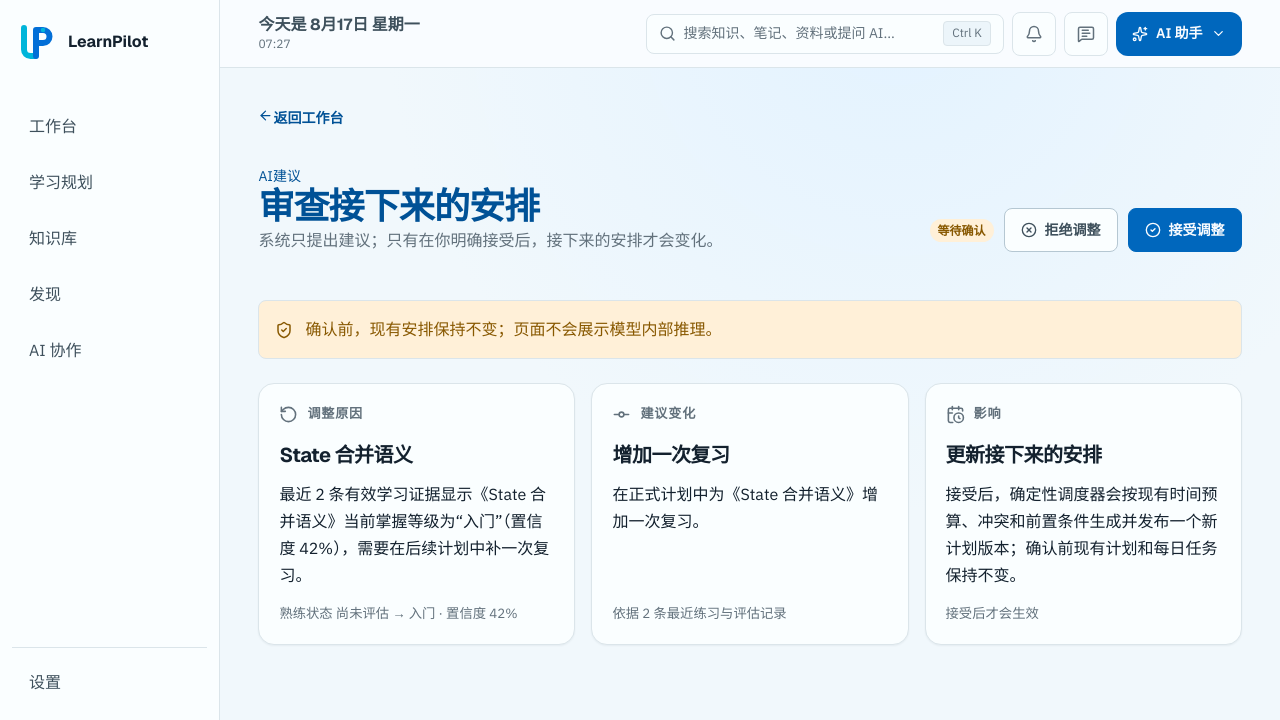
V11F Adaptive Plan Proposal › 只展示用户可审查的原因、建议和影响，并在明确接受后显示新安排
Expected: the heading "审查接下来的安排" is shown, [258,183,539,230]
Expected: the text "最近 2 条有效学习证据显示《State 合并语义》当前掌握等级为“入门”（置信度 42%），需要在后续计划中补一次复习。" is shown, [279,481,554,589]
Click the button "接受调整". click: x=1185, y=230
box: [1128,208,1242,252]
(page scrolled)
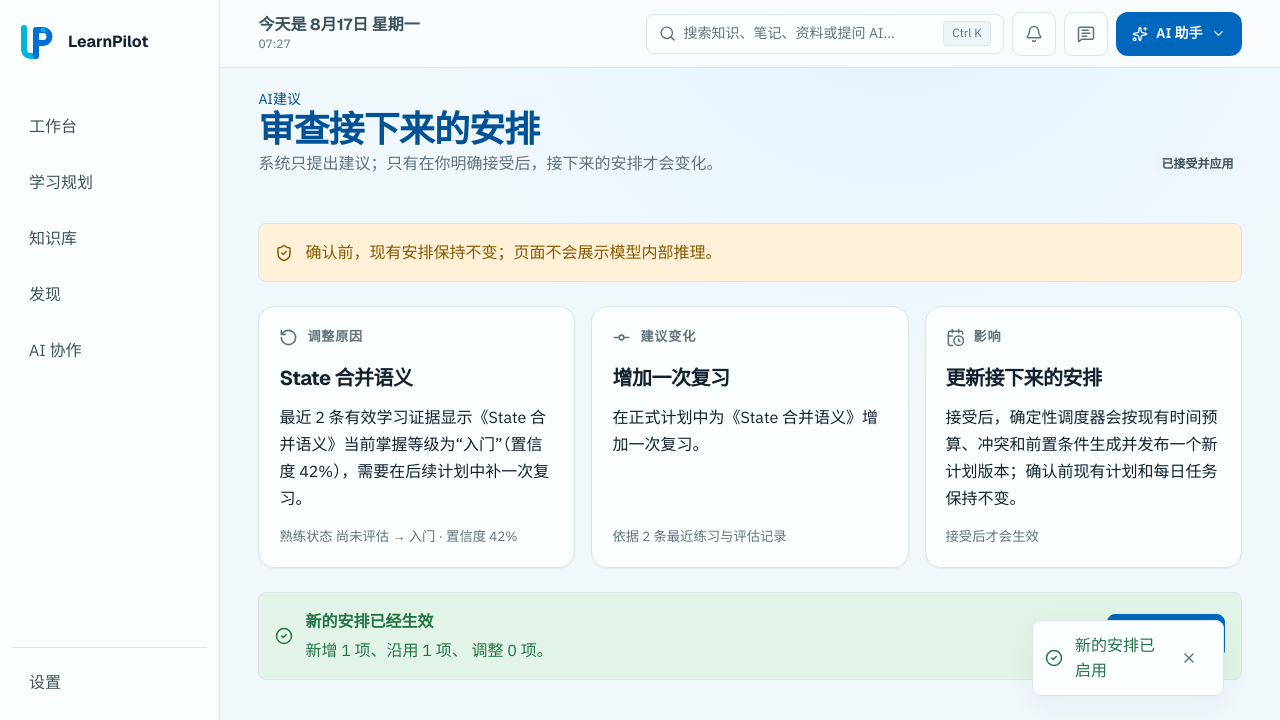
Result: the text "新的安排已经生效" is shown at [305,611,433,631]
Result: the text "新增 1 项、沿用 1 项、 调整 0 项。" is shown at [305,640,553,660]
